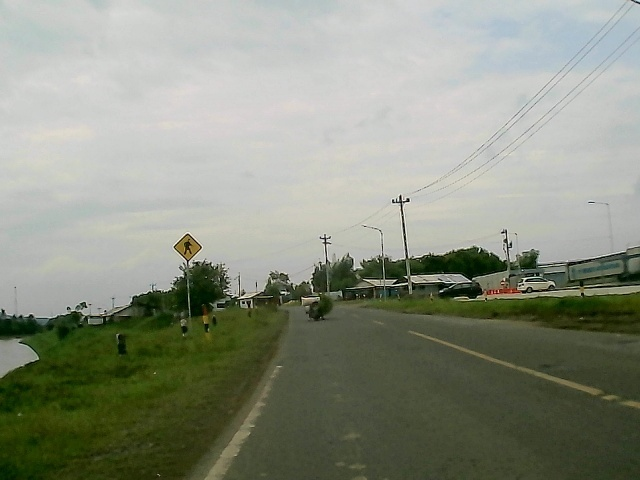Peringatan orang menyeberang: (171, 231, 205, 263)
